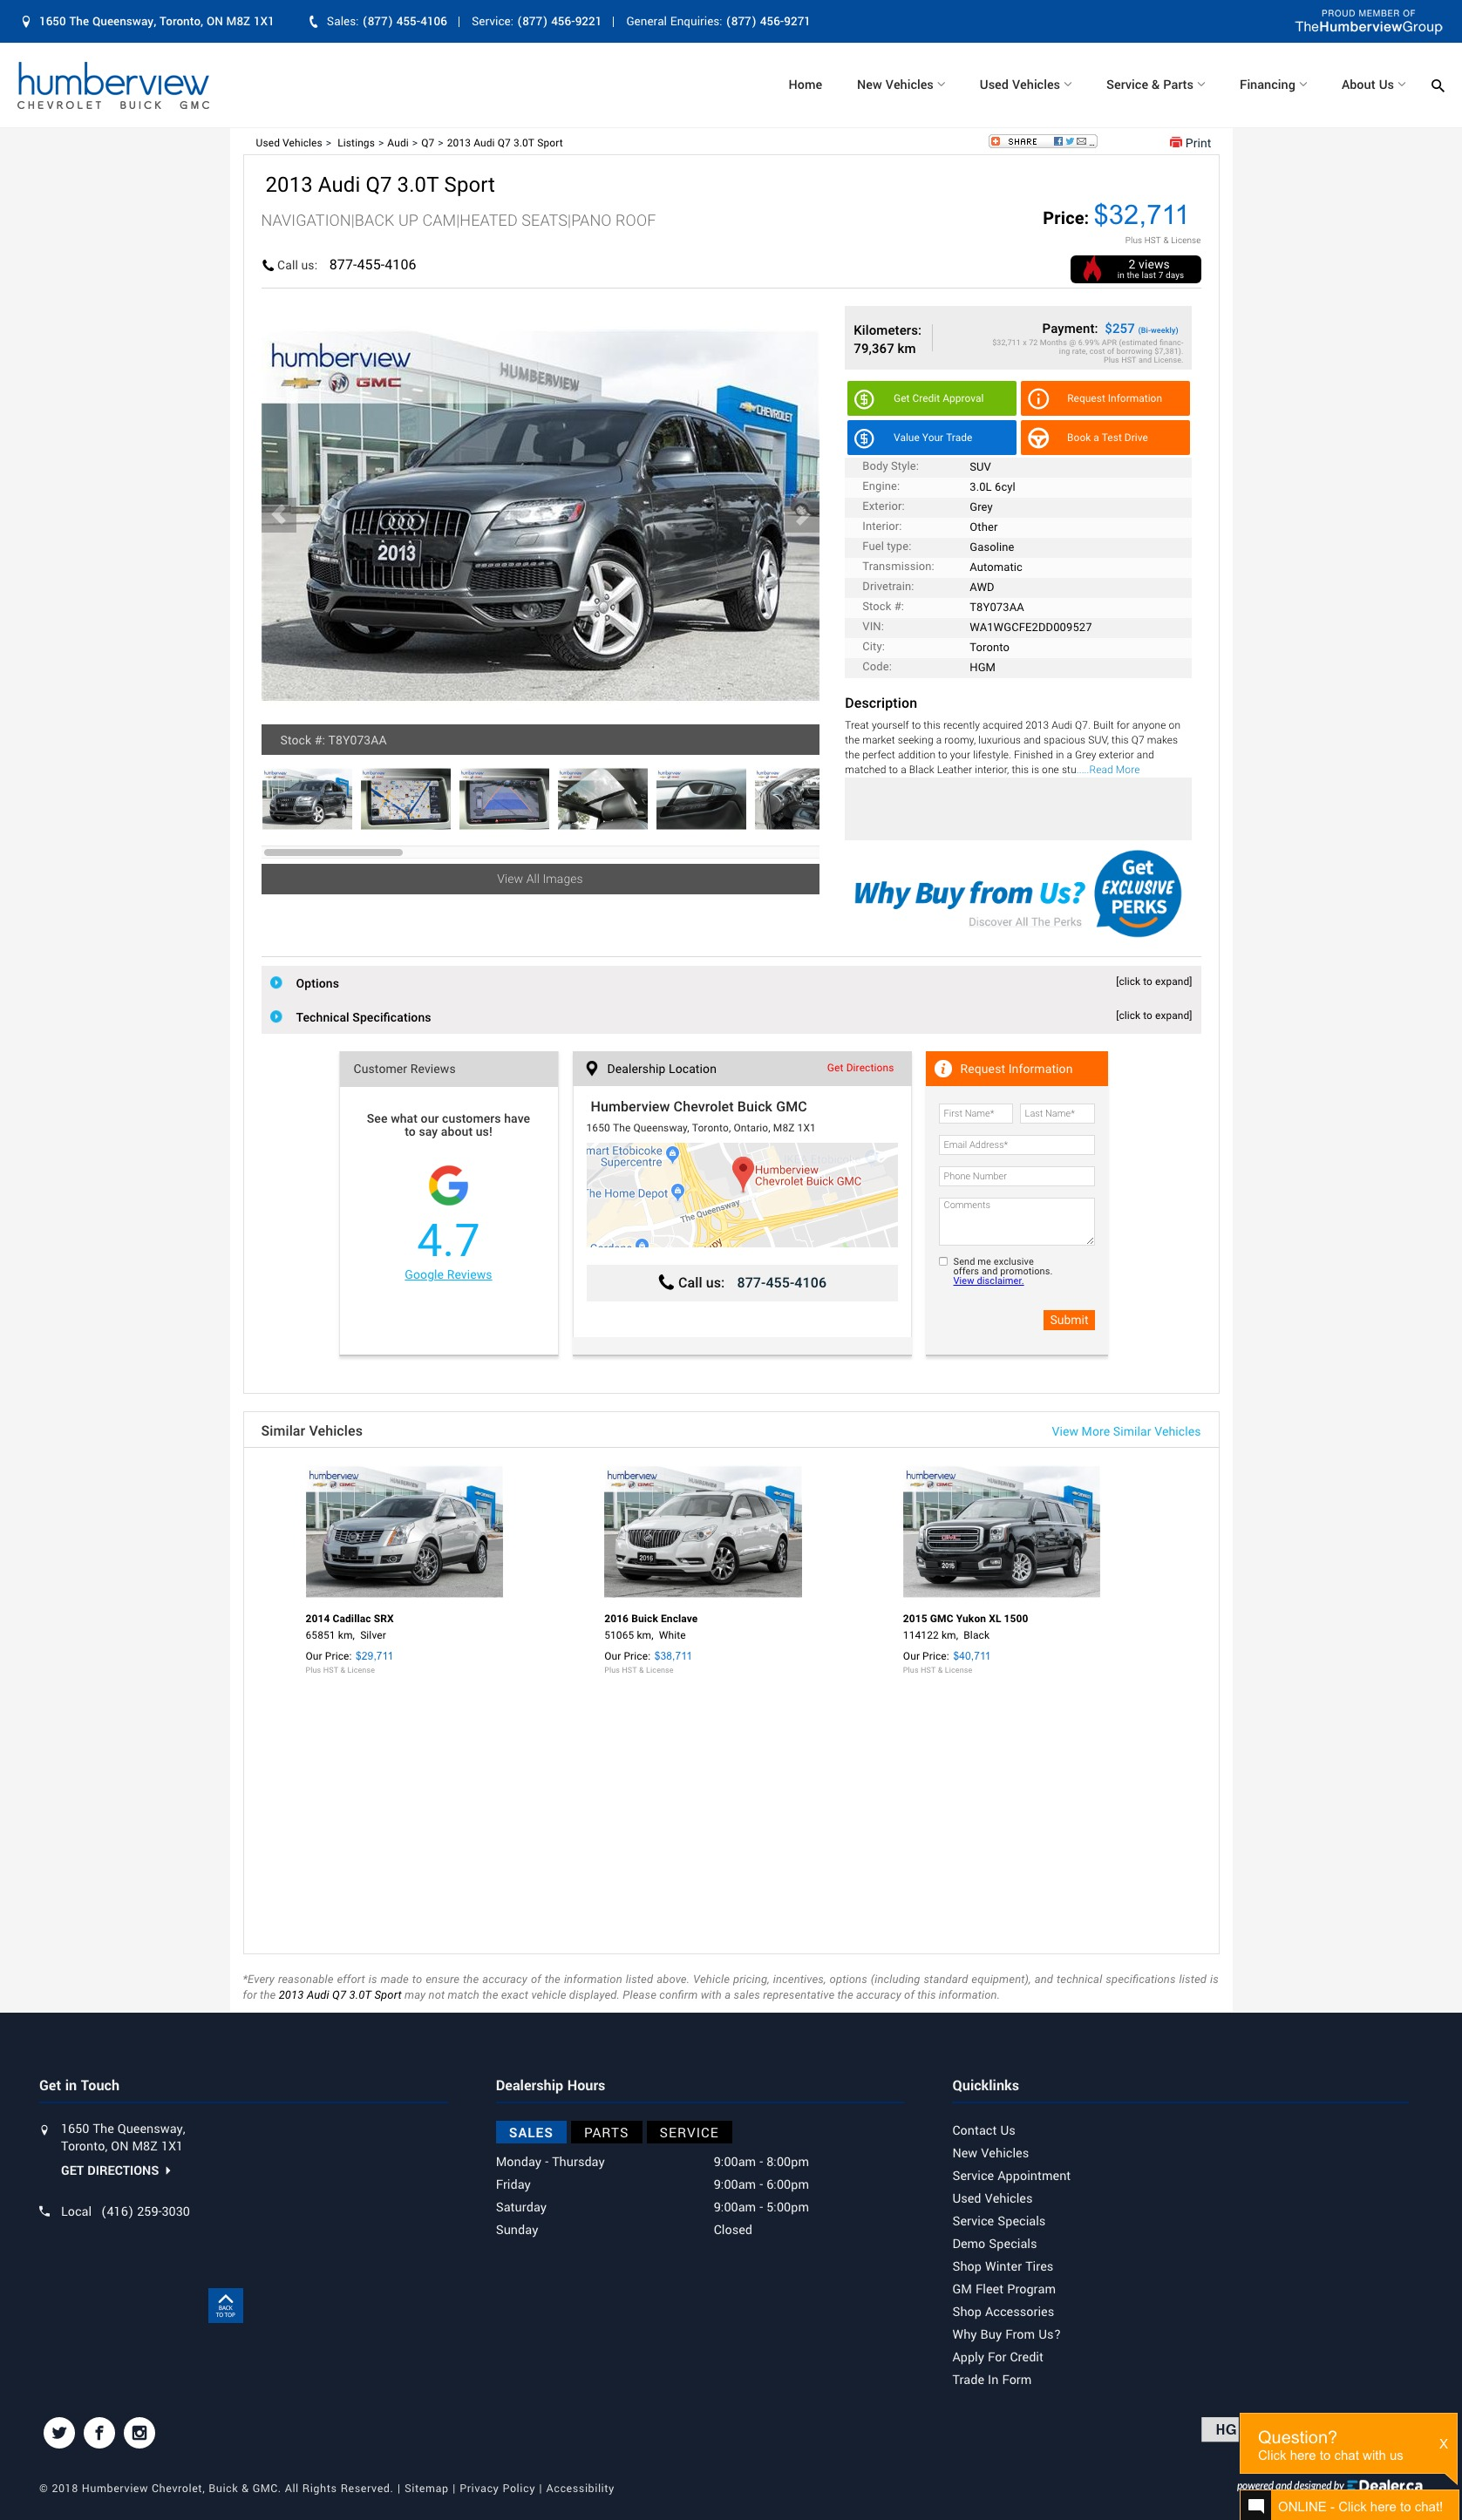car: (795, 505, 813, 527)
